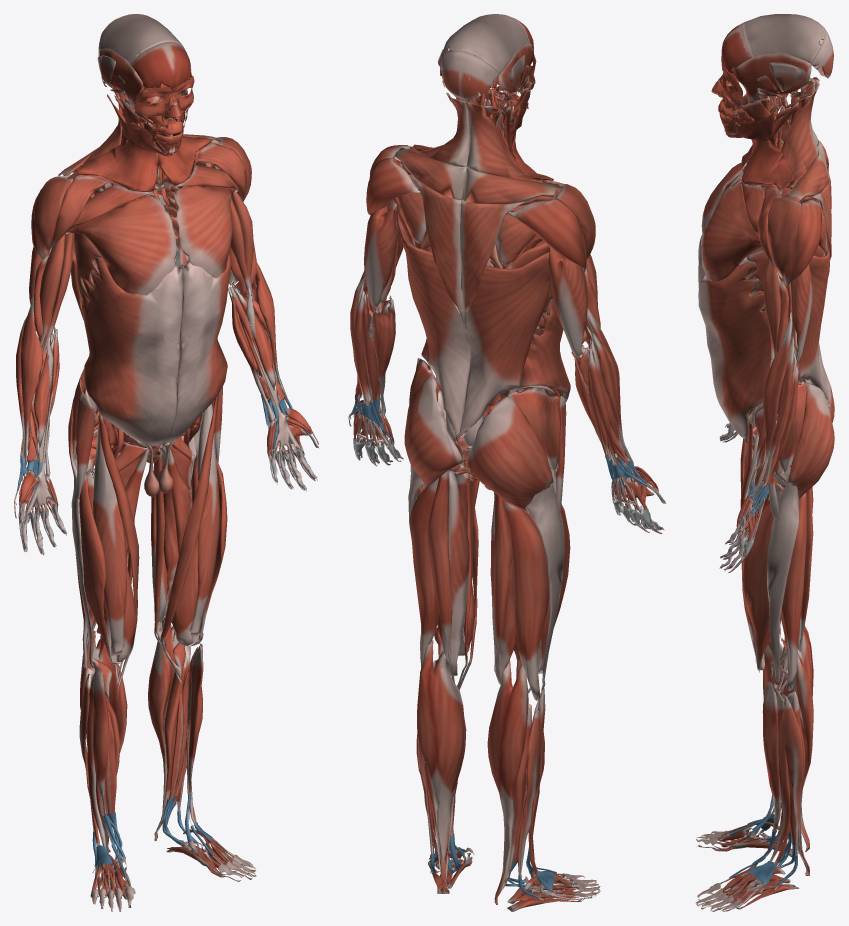
File: sys-muscular.glb
The picture shows the model from 3 angles, left to right: view 1: azimuth 30°, elevation 25°; view 2: azimuth 150°, elevation 25°; view 3: azimuth 270°, elevation 25°; orthographic projection. The views are drawn at different scales.
Parts seen in each view (by area): view 1: Right_external_abdominal_oblique_and_aponeurosis, Left_external_abdominal_oblique_and_aponeurosis, Right_sternocostal_portion_of_pectoralis_major, Left_sternocostal_portion_of_pectoralis_major, Right_rectus_femoris, Right_platysma, Left_rectus_femoris, Left_sartorius, Right_vastus_lateralis, Epicranial_aponeurosis, Left_gastrocnemius, Frontalis (+43 smaller); view 2: Right_latissimus_dorsi, Left_gastrocnemius, Left_latissimus_dorsi, Right_gluteus_maximus, Long_head_of_right_biceps_femoris, Right_gastrocnemius, Left_gluteus_maximus, Left_ascending_part_of_trapezius, Right_ascending_part_of_trapezius, Left_semimembranosus, Epicranial_aponeurosis, Long_head_of_left_biceps_femoris (+32 smaller); view 3: Left_external_abdominal_oblique_and_aponeurosis, Left_sternocostal_portion_of_pectoralis_major, Left_iliotibial_tract, Left_gluteus_maximus, Epicranial_aponeurosis, Left_vastus_lateralis, Left_platysma, Long_head_of_left_biceps_femoris, Left_latissimus_dorsi, Middle_part_of_left_deltoid, Left_temporalis, Left_descending_part_of_trapezius (+34 smaller).
Boxes of the visible parts, left/top/right/bottom form: Right_external_abdominal_oblique_and_aponeurosis: left=81, top=257, right=182, bottom=447; Left_external_abdominal_oblique_and_aponeurosis: left=162, top=251, right=230, bottom=443; Right_sternocostal_portion_of_pectoralis_major: left=65, top=195, right=176, bottom=295; Left_sternocostal_portion_of_pectoralis_major: left=174, top=185, right=237, bottom=278; Right_rectus_femoris: left=93, top=424, right=126, bottom=656; Right_platysma: left=75, top=110, right=169, bottom=191; Left_rectus_femoris: left=189, top=404, right=220, bottom=636; Left_sartorius: left=160, top=394, right=218, bottom=683; Right_vastus_lateralis: left=79, top=474, right=112, bottom=661; Epicranial_aponeurosis: left=99, top=14, right=184, bottom=63; Left_gastrocnemius: left=148, top=615, right=178, bottom=840; Frontalis: left=130, top=41, right=191, bottom=88; Right_latissimus_dorsi: left=459, top=252, right=550, bottom=437; Left_gastrocnemius: left=417, top=640, right=466, bottom=892; Left_latissimus_dorsi: left=396, top=207, right=470, bottom=435; Right_gluteus_maximus: left=467, top=394, right=553, bottom=519; Long_head_of_right_biceps_femoris: left=504, top=501, right=549, bottom=700; Right_gastrocnemius: left=487, top=660, right=528, bottom=904; Left_gluteus_maximus: left=404, top=375, right=462, bottom=489; Left_ascending_part_of_trapezius: left=410, top=173, right=467, bottom=328; Right_ascending_part_of_trapezius: left=460, top=200, right=525, bottom=327; Left_semimembranosus: left=437, top=468, right=469, bottom=676; Epicranial_aponeurosis: left=441, top=14, right=529, bottom=72; Long_head_of_left_biceps_femoris: left=409, top=478, right=438, bottom=668; Left_external_abdominal_oblique_and_aponeurosis: left=698, top=246, right=771, bottom=438; Left_sternocostal_portion_of_pectoralis_major: left=701, top=183, right=761, bottom=281; Left_iliotibial_tract: left=767, top=481, right=798, bottom=684; Left_gluteus_maximus: left=788, top=382, right=834, bottom=499; Epicranial_aponeurosis: left=743, top=14, right=825, bottom=63; Left_vastus_lateralis: left=742, top=485, right=781, bottom=670; Left_platysma: left=725, top=112, right=795, bottom=190; Long_head_of_left_biceps_femoris: left=781, top=493, right=806, bottom=690; Left_latissimus_dorsi: left=785, top=245, right=830, bottom=406; Middle_part_of_left_deltoid: left=767, top=195, right=801, bottom=278; Left_temporalis: left=733, top=53, right=811, bottom=103; Left_descending_part_of_trapezius: left=781, top=83, right=819, bottom=187.
Size of the model in its own units: 0.6389 by 1.7 by 0.2512.
Materials: 533 (533 with a texture image).
